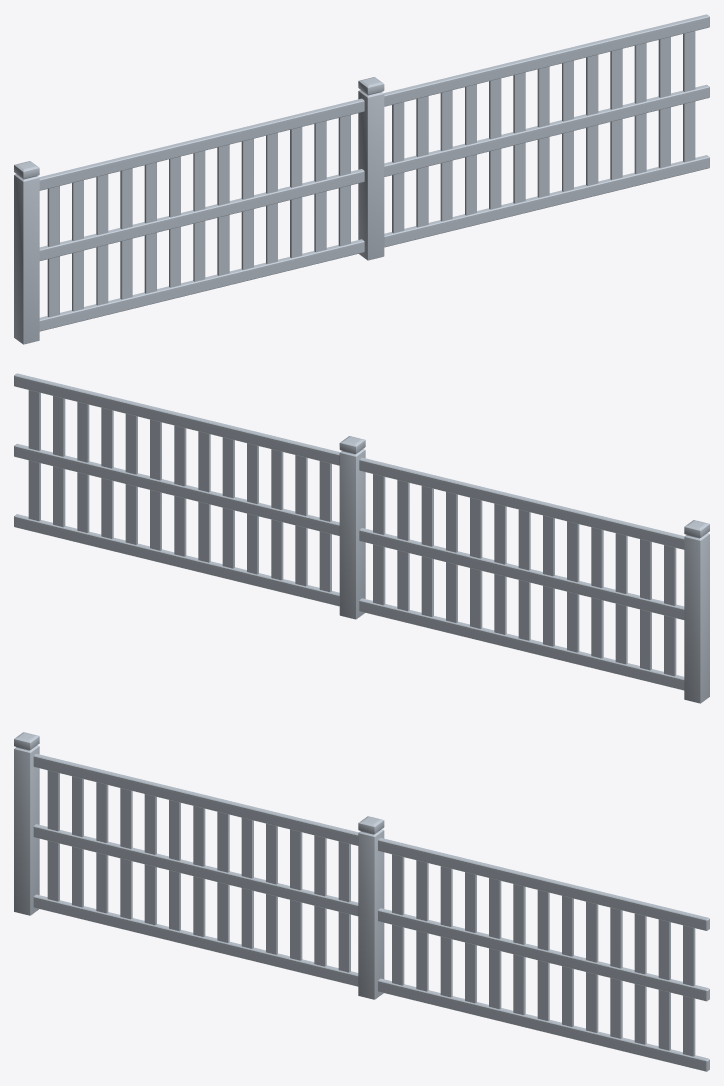
File: BalconyFence.fbx
3 renders of one model, top to bottom at view 1: azimuth 30°, elevation 25°; view 2: azimuth 150°, elevation 25°; view 3: azimuth 330°, elevation 25°, orthographic.
Parts seen in each view (by area): view 1: Golf-Course-Fence; view 2: Golf-Course-Fence; view 3: Golf-Course-Fence.
Boxes of the visible parts, x1=… form: Golf-Course-Fence: x1=14, y1=14, x2=709, y2=344; Golf-Course-Fence: x1=14, y1=373, x2=709, y2=703; Golf-Course-Fence: x1=14, y1=732, x2=709, y2=1071.
Bounding box in the file's own units: 636 × 153 × 15.24.
